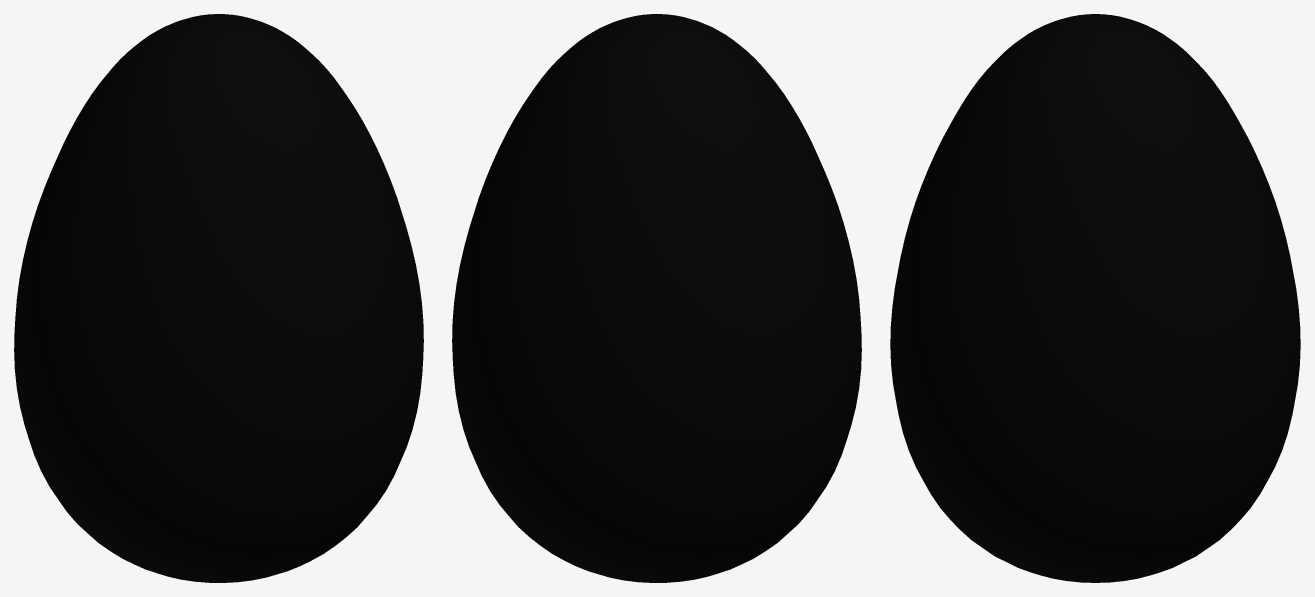
Rendered from egg_0.glb.
3 renders of one model, left to right at view 1: azimuth 30°, elevation 25°; view 2: azimuth 150°, elevation 25°; view 3: azimuth 270°, elevation 25°, orthographic.
Parts seen in each view (by area): view 1: node_id8; view 2: node_id8; view 3: node_id8.
Part boxes in pixels (x1,y1,x2,y2): node_id8: (14, 14, 423, 582); node_id8: (452, 14, 861, 582); node_id8: (890, 14, 1300, 582).
Bounding box in the file's own units: 0.3527 × 0.512 × 0.3527.
1 material, 1 textured.
